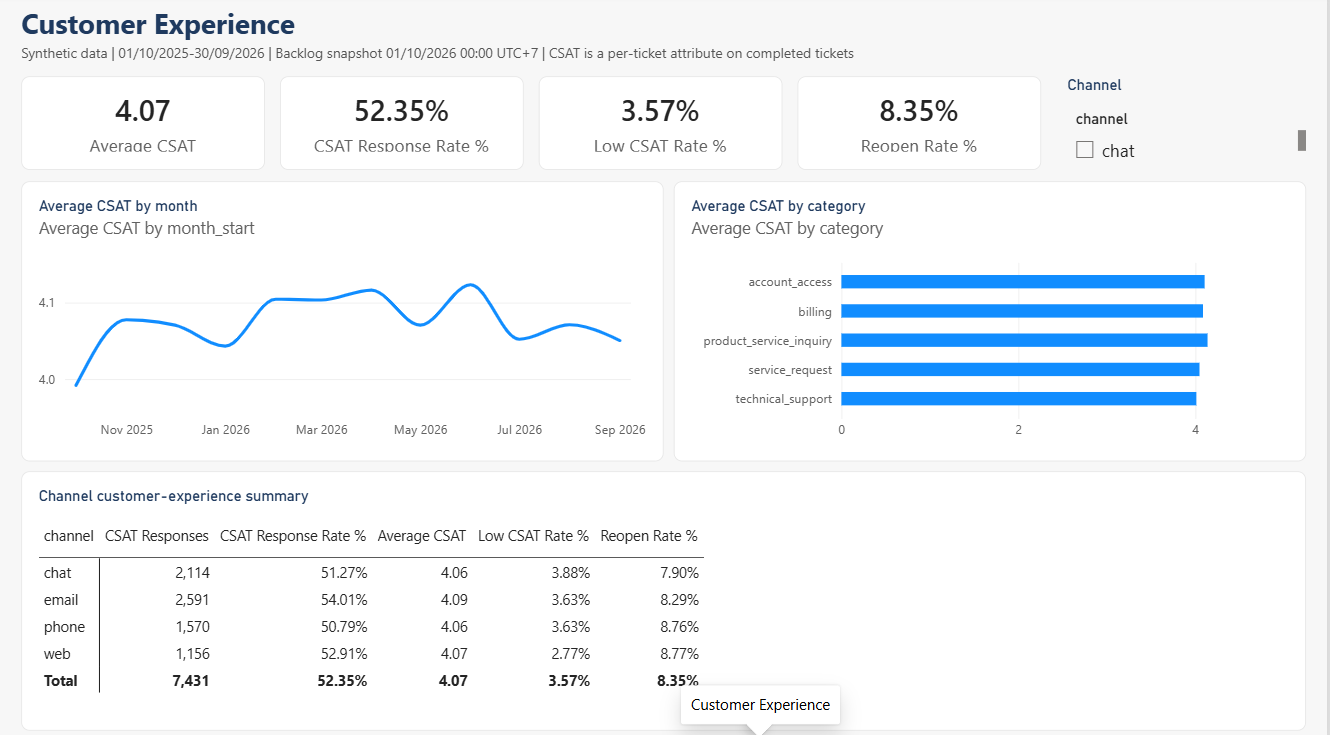

The page's visual inventory and layout, read from the dashboard file:
{"tool":"powerbi","page":{"name":"Customer Experience","canvas":[1280,720],"ordinal":3},"visuals":[{"type":"textbox","box":[20,8,900,40],"z":28},{"type":"textbox","box":[20,46,1240,24],"z":29},{"type":"card","fields":{"Values":["fact_tickets.Average CSAT"]},"box":[20,78,235,90],"z":30},{"type":"card","fields":{"Values":["fact_tickets.CSAT Response Rate %"]},"box":[270,78,235,90],"z":31},{"type":"card","fields":{"Values":["fact_tickets.Low CSAT Rate %"]},"box":[520,78,235,90],"z":32},{"type":"card","fields":{"Values":["fact_tickets.Reopen Rate %"]},"box":[770,78,235,90],"z":33},{"type":"slicer","title":"Channel","fields":{"Values":["fact_tickets.channel"]},"box":[1030,78,230,90],"z":34},{"type":"lineChart","title":"Average CSAT by month","fields":{"Category":["dim_date.month_start"],"Y":["fact_tickets.Average CSAT"]},"box":[20,180,620,270],"z":35},{"type":"clusteredBarChart","title":"Average CSAT by category","fields":{"Category":["dim_categories.category"],"Y":["fact_tickets.Average CSAT"]},"box":[650,180,610,270],"z":36},{"type":"pivotTable","title":"Channel customer-experience summary","fields":{"Rows":["fact_tickets.channel"],"Values":["fact_tickets.CSAT Responses","fact_tickets.CSAT Response Rate %","fact_tickets.Average CSAT","fact_tickets.Low CSAT Rate %","fact_tickets.Reopen Rate %"]},"box":[20,460,1240,250],"z":37}]}

Visuals, with their boxes in screenshot pixels (x1, y1, x2, y2), scaled from the page's 1280x720 canvas onto the 1330x735 screenshot:
textbox: 21:8:956:49
textbox: 21:47:1309:71
card - fact_tickets.Average CSAT: 21:80:265:172
card - fact_tickets.CSAT Response Rate %: 281:80:525:172
card - fact_tickets.Low CSAT Rate %: 540:80:784:172
card - fact_tickets.Reopen Rate %: 800:80:1044:172
"Channel" slicer: 1070:80:1309:172
"Average CSAT by month" lineChart: 21:184:665:459
"Average CSAT by category" clusteredBarChart: 675:184:1309:459
"Channel customer-experience summary" pivotTable: 21:470:1309:725
